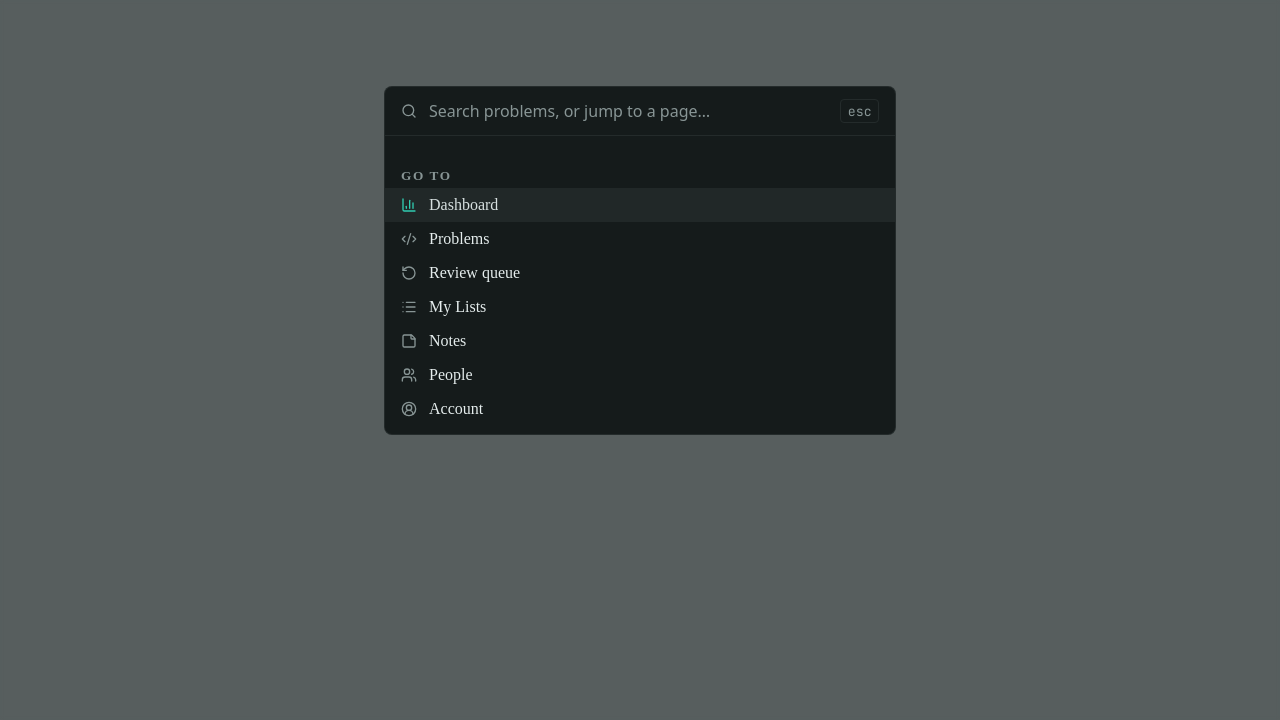
CommandPaletteDialog › matches problems on leetcode id prefix
Type "16" into the dropdown at [629, 111], box x1=429 y1=100 x2=828 y2=122
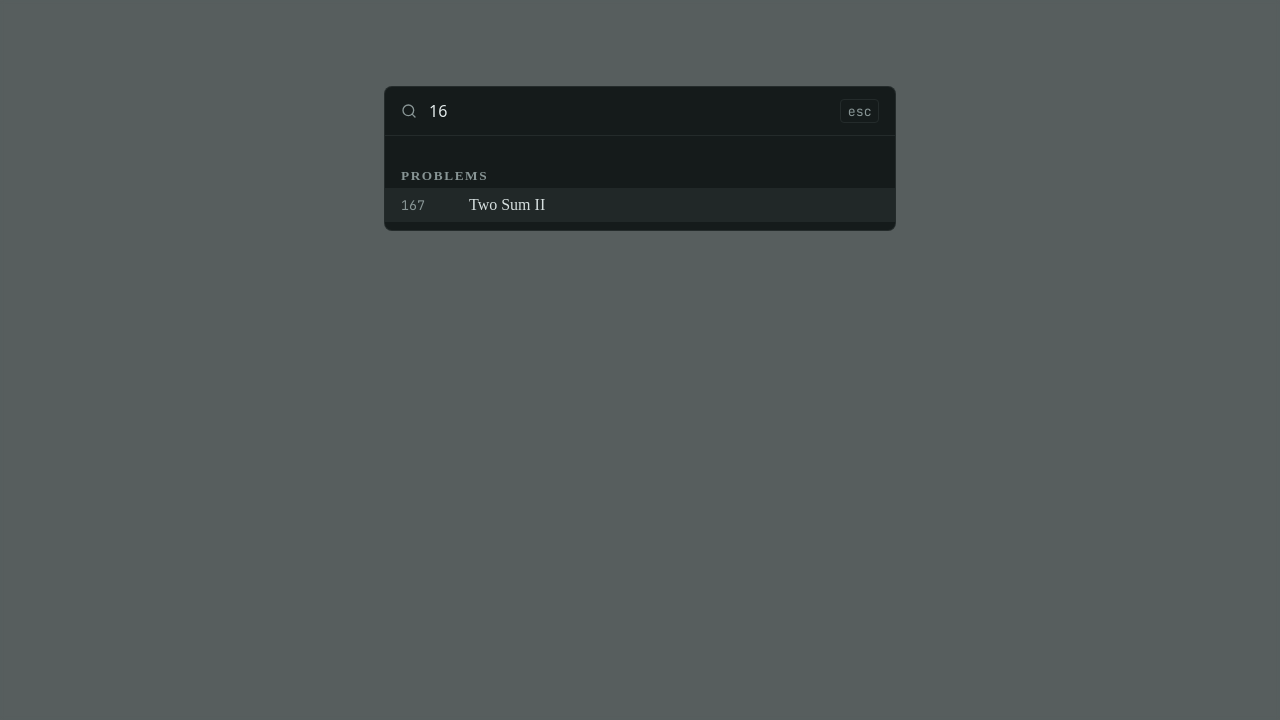
Expected: the text "Two Sum II" is shown, x1=469 y1=196 x2=545 y2=213
